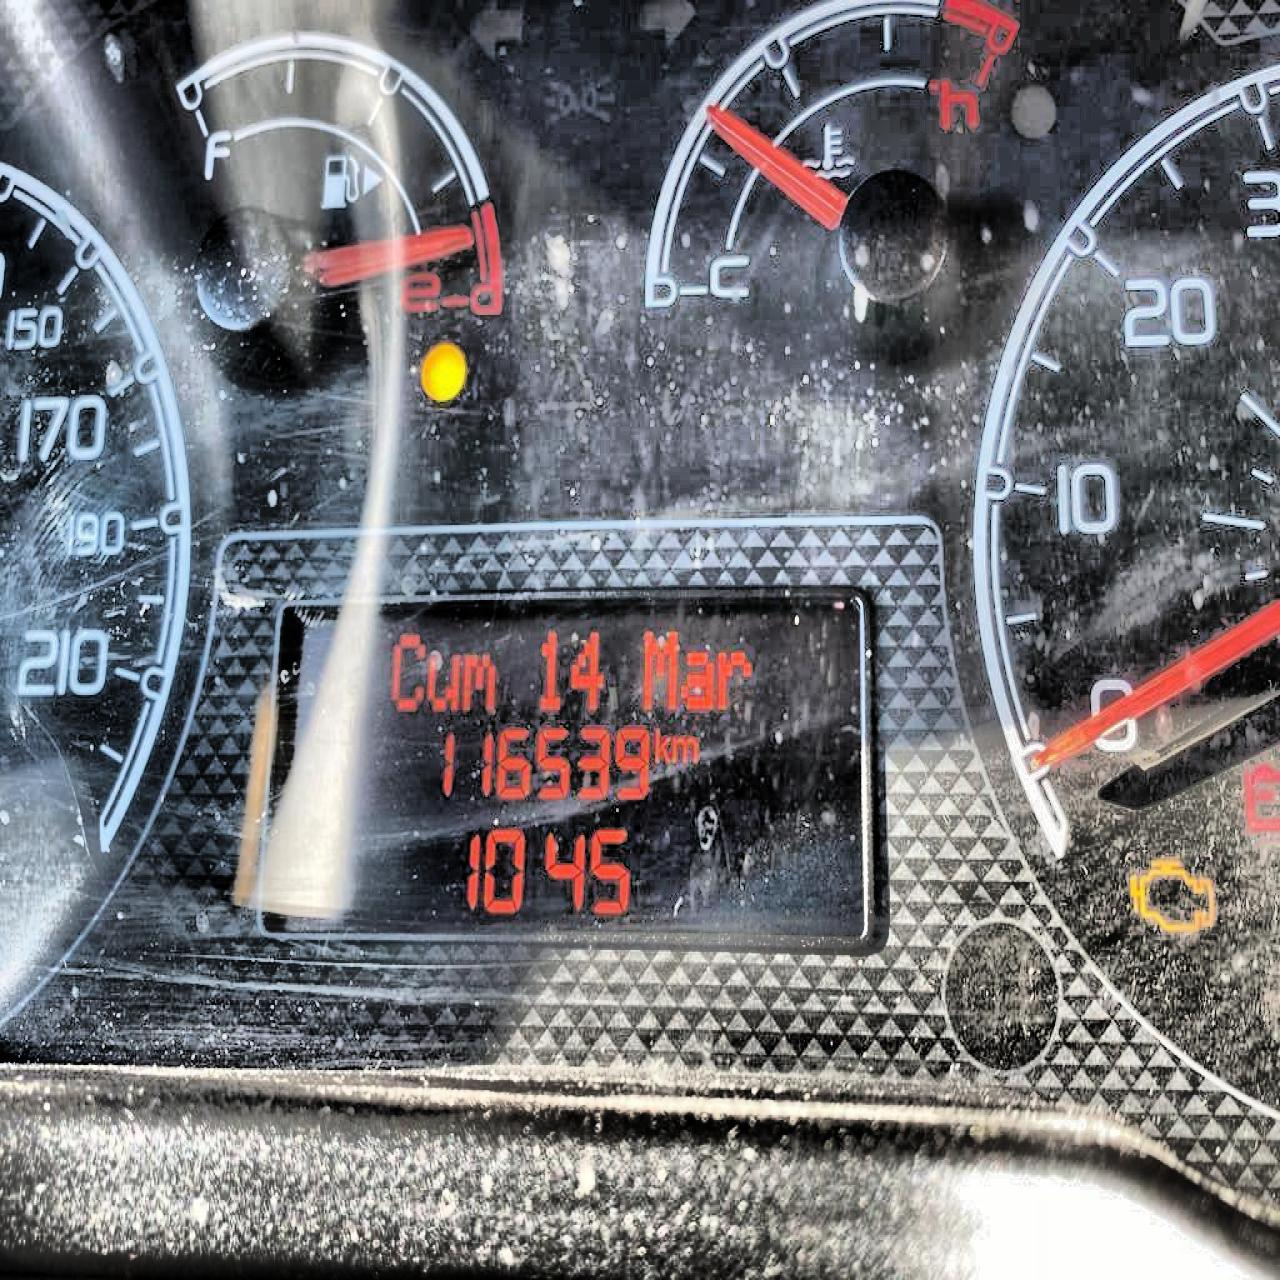0: (483, 826, 525, 913)
1: (539, 632, 560, 710), (465, 831, 481, 912), (440, 731, 454, 797), (479, 731, 492, 794)
3: (576, 727, 610, 798)
4: (544, 830, 585, 912), (570, 629, 604, 708)
5: (588, 829, 629, 914), (535, 727, 568, 798)
6: (495, 727, 530, 798)
9: (613, 727, 647, 798)
X: (640, 628, 678, 710), (389, 632, 425, 712), (679, 651, 714, 710), (715, 648, 750, 708), (462, 653, 497, 712), (425, 652, 459, 712), (670, 734, 697, 763), (653, 727, 668, 763)
odometer: (254, 584, 874, 949)
